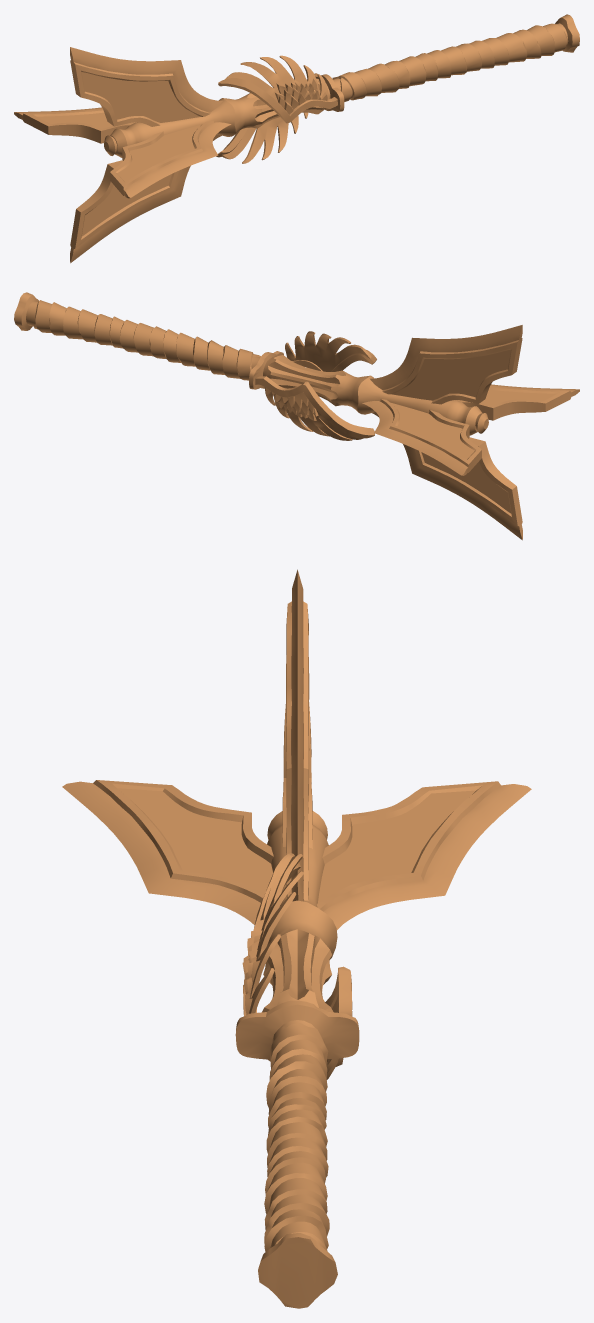
Rendered from SM_Rune_Mace_2.fbx.
The picture shows the model from 3 angles, top to bottom: view 1: azimuth 30°, elevation 25°; view 2: azimuth 150°, elevation 25°; view 3: azimuth 270°, elevation 25°; orthographic projection. The views are drawn at different scales.
Parts seen in each view (by area): view 1: SM_Rune_Mace_2; view 2: SM_Rune_Mace_2; view 3: SM_Rune_Mace_2.
Part boxes in pixels (x1=…): SM_Rune_Mace_2: x1=14, y1=14, x2=579, y2=263; SM_Rune_Mace_2: x1=14, y1=292, x2=579, y2=540; SM_Rune_Mace_2: x1=62, y1=569, x2=531, y2=1308.
Bounding box in the file's own units: 0.957 × 0.3958 × 0.3901.
